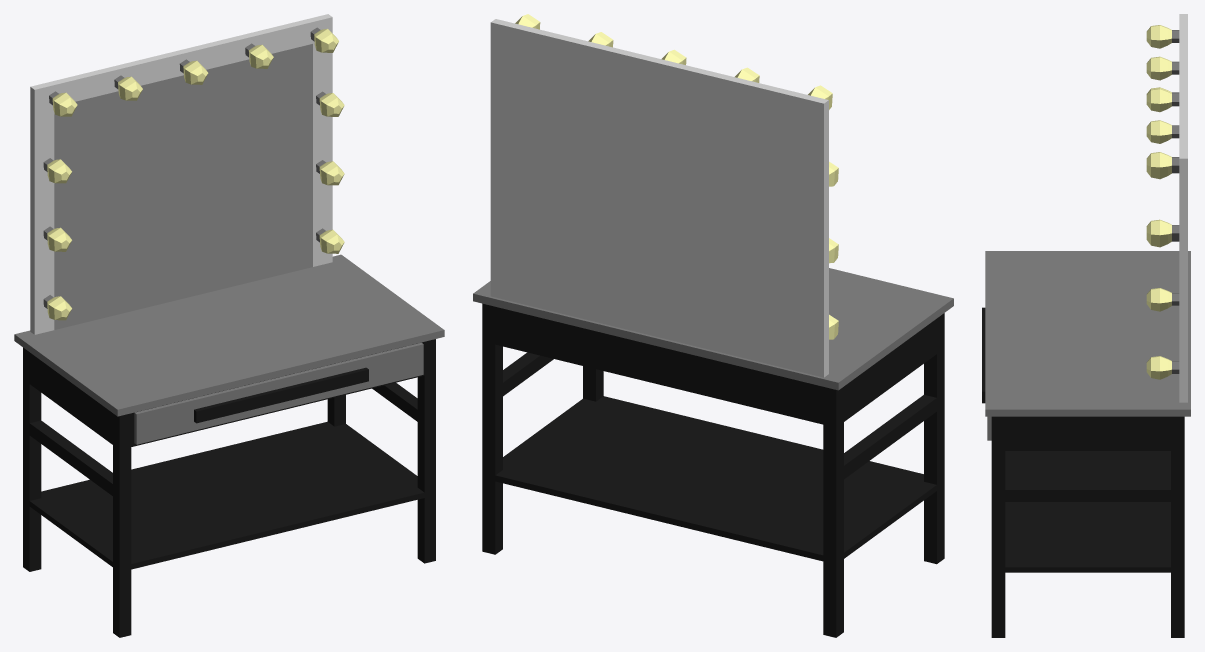
File: Int_MakeupDesk01_1.fbx
3 renders of one model, left to right at view 1: azimuth 30°, elevation 25°; view 2: azimuth 150°, elevation 25°; view 3: azimuth 270°, elevation 25°, orthographic. The views are drawn at different scales.
Visible parts, largest first — view 1: Int_DressingRoom_Table01_1; view 2: Int_DressingRoom_Table01_1; view 3: Int_DressingRoom_Table01_1.
Boxes of the visible parts, left/top/right/bottom form: Int_DressingRoom_Table01_1: left=14, top=14, right=444, bottom=637; Int_DressingRoom_Table01_1: left=473, top=14, right=953, bottom=637; Int_DressingRoom_Table01_1: left=982, top=14, right=1190, bottom=637.
Size of what is drawn, in the model's own units: 138 by 76.62 by 192.
